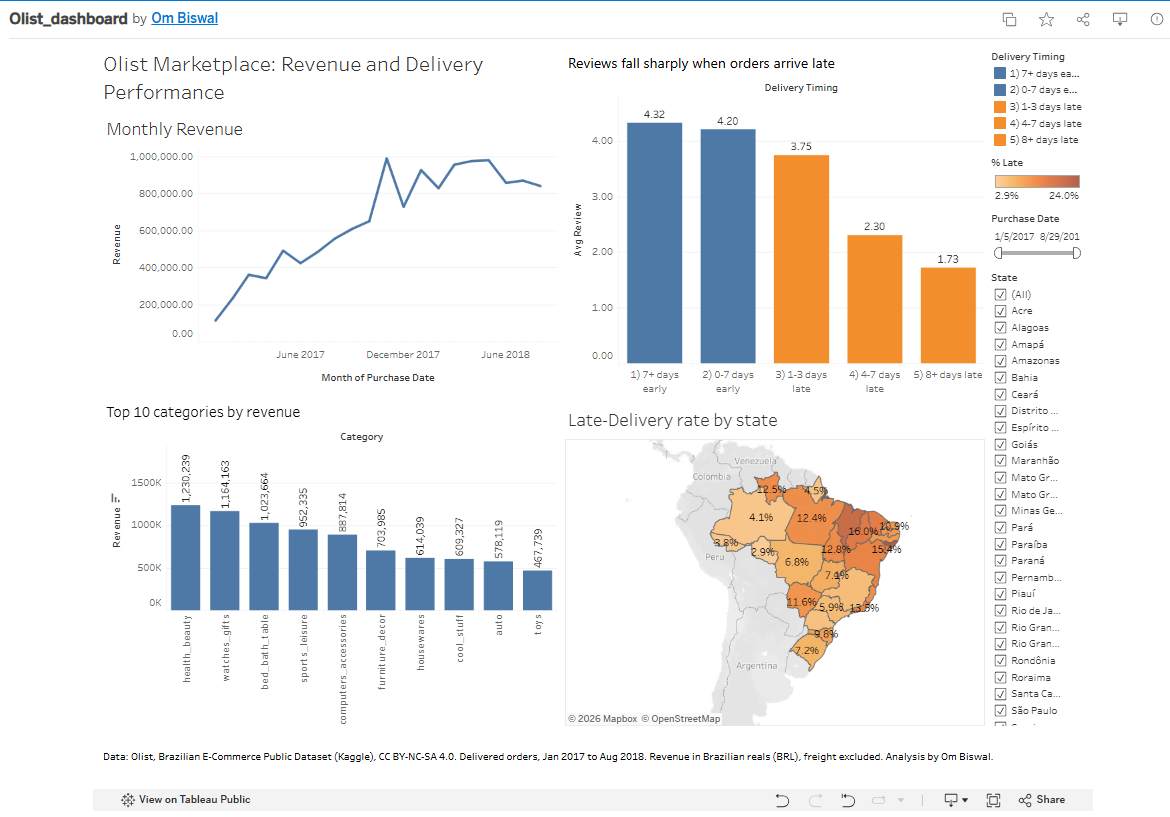

What the dashboard file says about the page in this screenshot:
{"tool":"tableau","page":{"name":"Olist Dashboard","canvas":[1200,900],"ordinal":0},"visuals":[{"type":"title","box":[8,8,554,92]},{"type":"worksheet","title":"Review by Delivery","mark":"Automatic","rows":["Calculation_1124863486820355"],"cols":["delivery_timing"],"box":[562,8,512,425]},{"type":"legend","title":"Review by Delivery","param":"[federated.1tqb0tw1ynpa3f1eryubi0gxnja8].[none:delivery_timing:nk]","box":[1074,8,118,135]},{"type":"worksheet","title":"Monthly Revenue","mark":"Automatic","rows":["revenue"],"cols":["purchase_date"],"box":[8,100,554,333]},{"type":"legend","title":"Late Rate by State","param":"[federated.1tqb0tw1ynpa3f1eryubi0gxnja8].[usr:Calculation_1124863486771202:qk]","box":[1074,143,118,73]},{"type":"filter","title":"Review by Delivery","param":"[federated.1tqb0tw1ynpa3f1eryubi0gxnja8].[none:purchase_date:qk]","box":[1074,216,118,73]},{"type":"filter","title":"Review by Delivery","param":"[federated.1tqb0tw1ynpa3f1eryubi0gxnja8].[none:state:nk]","box":[1074,289,118,540]},{"type":"worksheet","title":"Top Categories","mark":"Automatic","rows":["revenue"],"cols":["category"],"box":[8,433,554,396]},{"type":"worksheet","title":"Late Rate by State","mark":"Automatic","box":[562,433,512,396]},{"type":"text","box":[8,829,1184,63]}]}

Visuals, with their boxes on the page's 1200x900 design canvas (x1, y1, x2, y2). These are canvas units, not pixel positions in the 1170x817 screenshot, which may show the page scaled, cropped or inside an application window:
title: {"left": 8, "top": 8, "right": 562, "bottom": 100}
"Review by Delivery" worksheet: {"left": 562, "top": 8, "right": 1074, "bottom": 433}
"Review by Delivery" legend: {"left": 1074, "top": 8, "right": 1192, "bottom": 143}
"Monthly Revenue" worksheet: {"left": 8, "top": 100, "right": 562, "bottom": 433}
"Late Rate by State" legend: {"left": 1074, "top": 143, "right": 1192, "bottom": 216}
"Review by Delivery" filter: {"left": 1074, "top": 216, "right": 1192, "bottom": 289}
"Review by Delivery" filter: {"left": 1074, "top": 289, "right": 1192, "bottom": 829}
"Top Categories" worksheet: {"left": 8, "top": 433, "right": 562, "bottom": 829}
"Late Rate by State" worksheet: {"left": 562, "top": 433, "right": 1074, "bottom": 829}
text: {"left": 8, "top": 829, "right": 1192, "bottom": 892}
